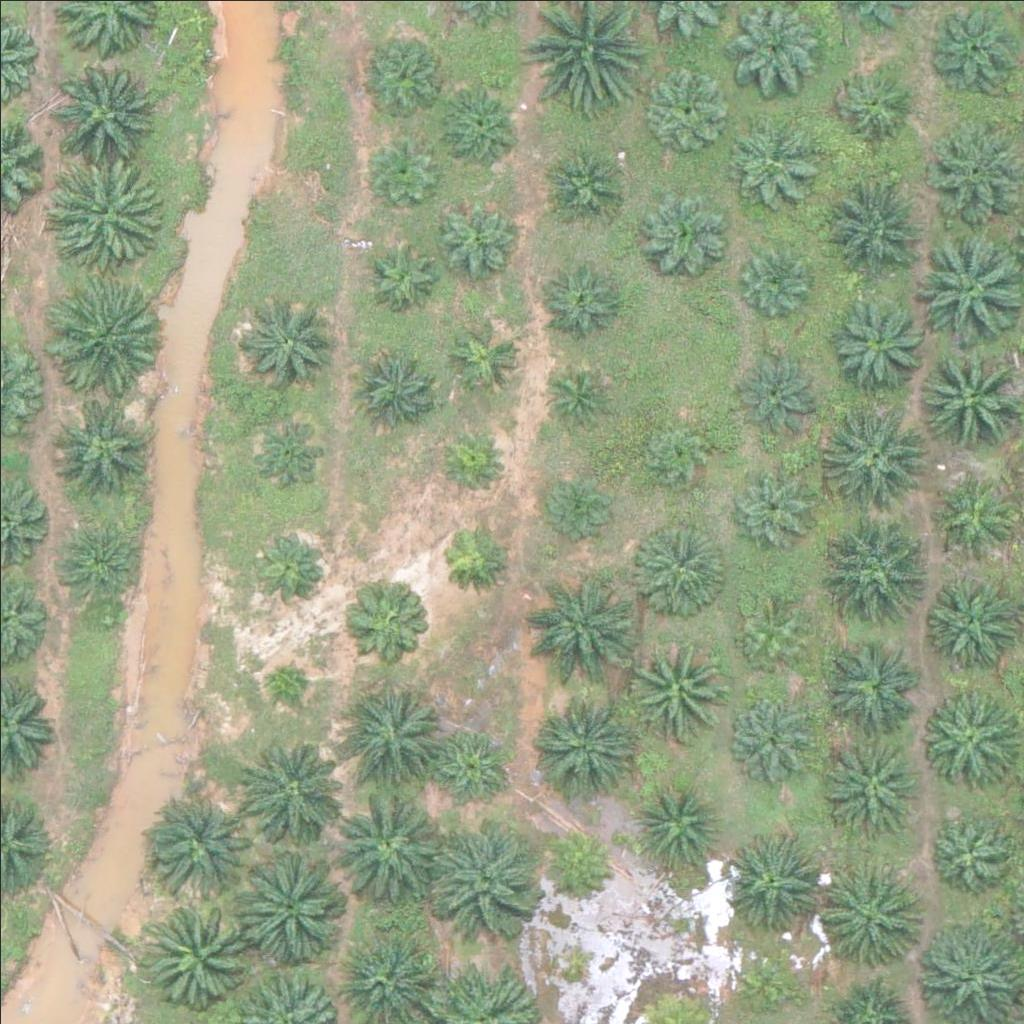Kelapa_Sawit: (46, 282, 159, 396), (50, 159, 163, 272), (823, 162, 936, 275), (237, 849, 350, 962), (240, 732, 353, 845), (425, 820, 538, 933), (44, 49, 156, 163), (909, 339, 1021, 453), (334, 789, 446, 903), (823, 511, 935, 624), (822, 397, 934, 510), (521, 571, 633, 684), (142, 897, 254, 1010), (145, 789, 257, 902), (329, 680, 441, 793), (238, 289, 338, 390), (827, 287, 927, 388), (919, 568, 1019, 669), (920, 692, 1020, 793), (818, 728, 918, 829), (820, 637, 920, 738), (727, 830, 827, 931), (628, 637, 728, 738), (531, 698, 631, 799), (51, 398, 151, 499), (821, 867, 921, 967), (627, 519, 727, 619), (433, 195, 521, 284), (241, 407, 329, 496), (535, 252, 623, 340), (547, 136, 635, 224), (363, 29, 451, 117), (931, 7, 1019, 95), (830, 61, 918, 149), (641, 60, 729, 148), (426, 719, 514, 807), (925, 480, 1013, 568), (732, 347, 820, 435), (725, 465, 813, 553), (341, 582, 429, 670), (347, 343, 435, 431), (435, 81, 522, 169), (640, 189, 727, 277), (729, 116, 816, 204), (921, 805, 1008, 893), (728, 698, 815, 786), (634, 778, 721, 866), (244, 526, 331, 614), (57, 523, 144, 611), (542, 829, 617, 905), (737, 238, 812, 314), (539, 467, 614, 543), (364, 128, 439, 204), (541, 355, 616, 431), (730, 944, 805, 1020), (434, 518, 509, 593), (733, 597, 808, 672), (449, 318, 524, 393), (635, 413, 710, 488), (361, 234, 436, 309), (434, 422, 509, 497), (262, 649, 312, 699)
